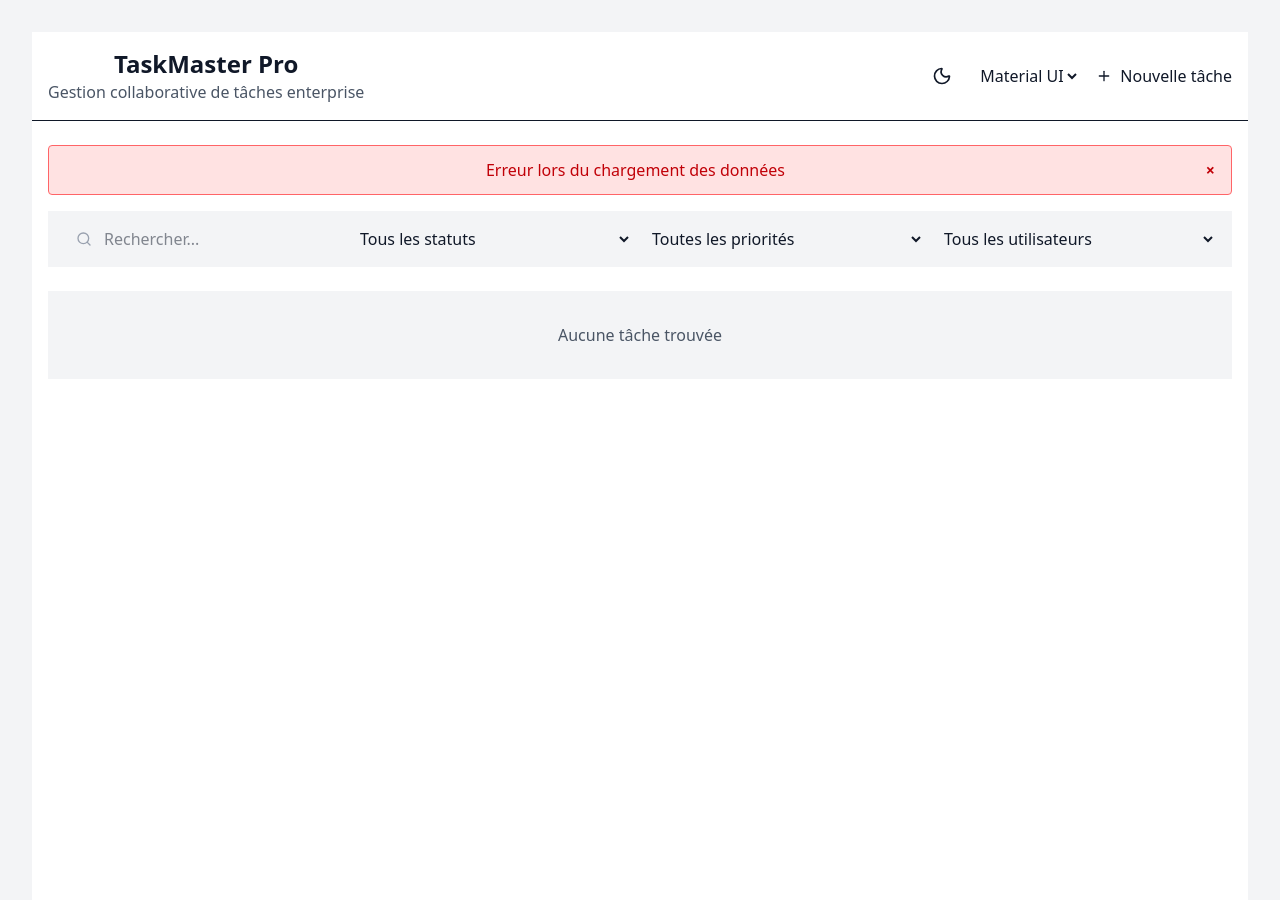
Test: TaskView Component › Chargement des données › doit permettre de fermer les messages d'erreur
Expected: the text "Erreur lors du chargement des données" is shown, x1=486 y1=159 x2=785 y2=181
Click the button "×" at [1210, 170], box x1=1206 y1=158 x2=1215 y2=182
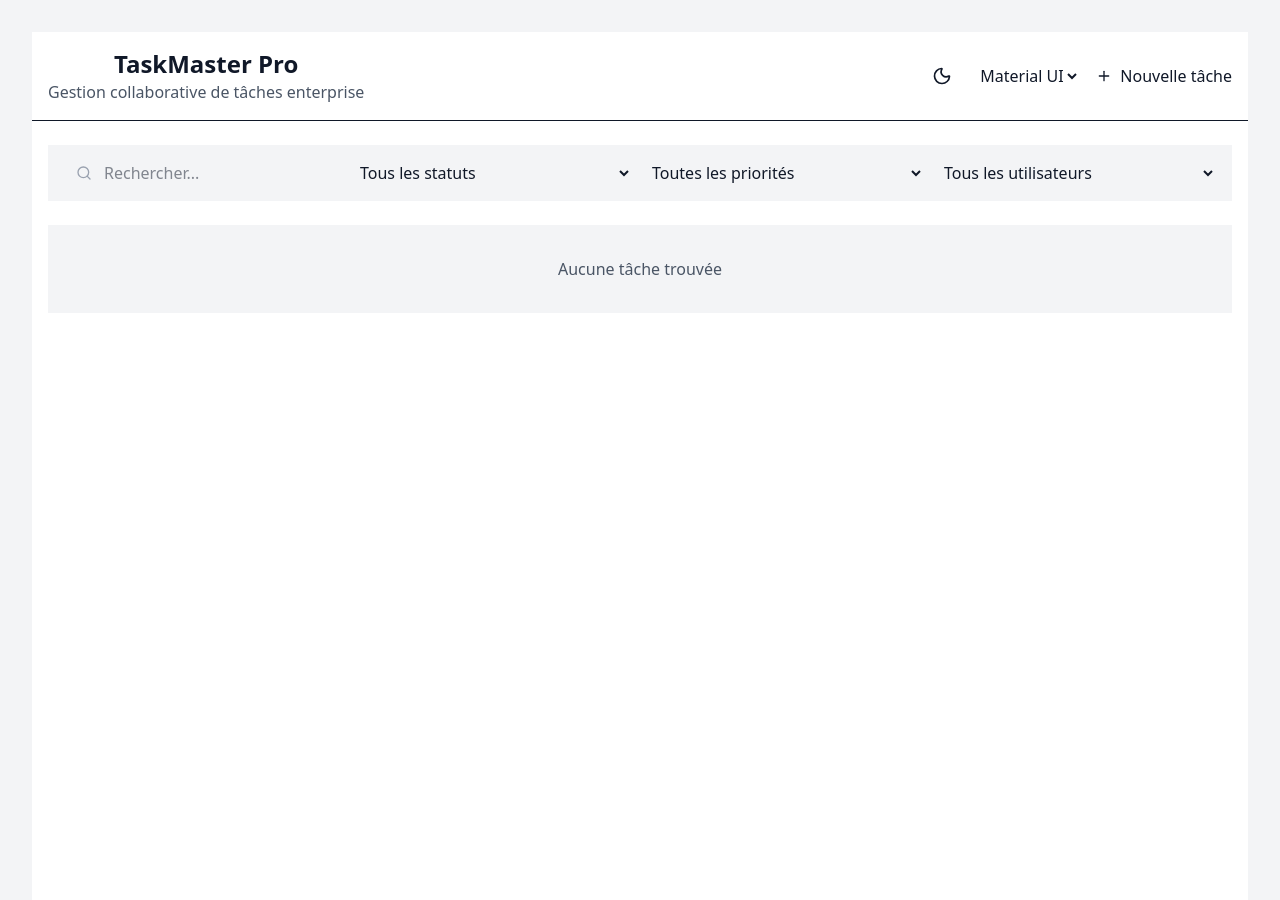
Expected: the text "Erreur lors du chargement des données" is gone
